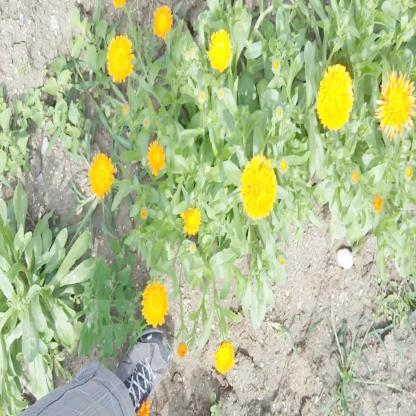marigold: (378, 72, 414, 137), (242, 154, 276, 221), (318, 65, 353, 128), (106, 36, 133, 82), (140, 281, 166, 325), (88, 154, 113, 198), (209, 28, 232, 68), (147, 140, 167, 174), (180, 204, 200, 237)
